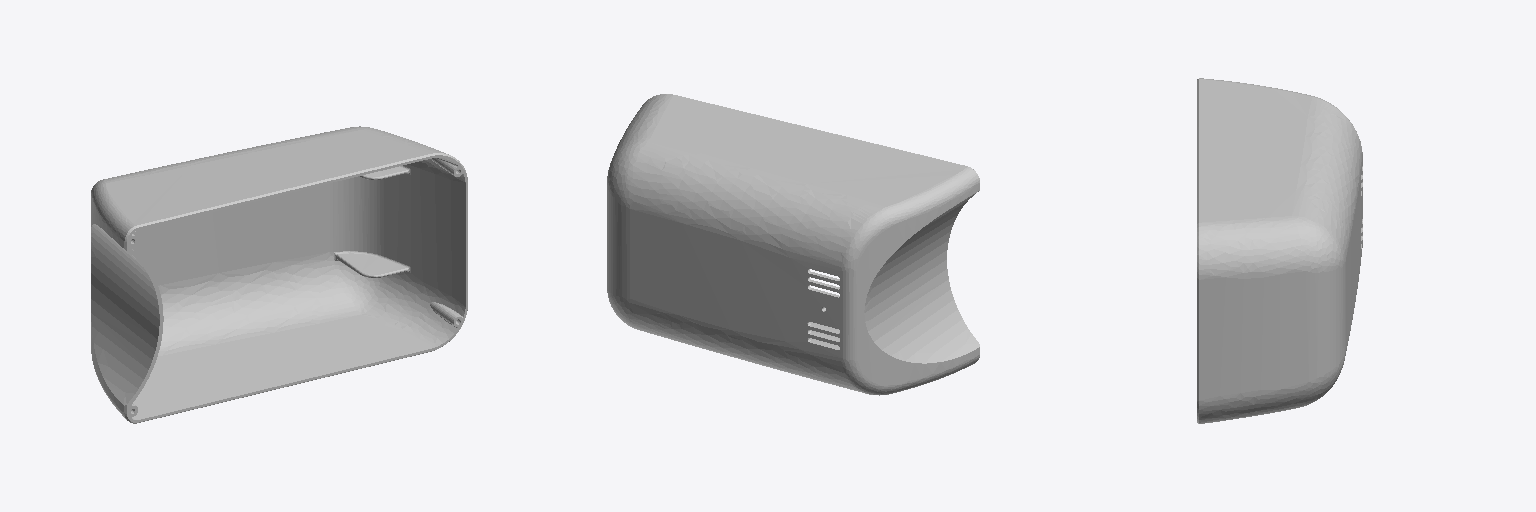
The model's file is hull_r3_vis.obj.
The picture shows the model from 3 angles: view 1: azimuth 30°, elevation 25°; view 2: azimuth 150°, elevation 25°; view 3: azimuth 270°, elevation 25°; orthographic projection.
Parts seen in each view (by area): view 1: Hull_R3_vis; view 2: Hull_R3_vis; view 3: Hull_R3_vis.
Part boxes in pixels (x1,y1,x2,y2): Hull_R3_vis: (91,126,467,423); Hull_R3_vis: (607,94,979,395); Hull_R3_vis: (1197,78,1362,423).
Size of the model in its own units: 0.1775 by 0.0977 by 0.0741.